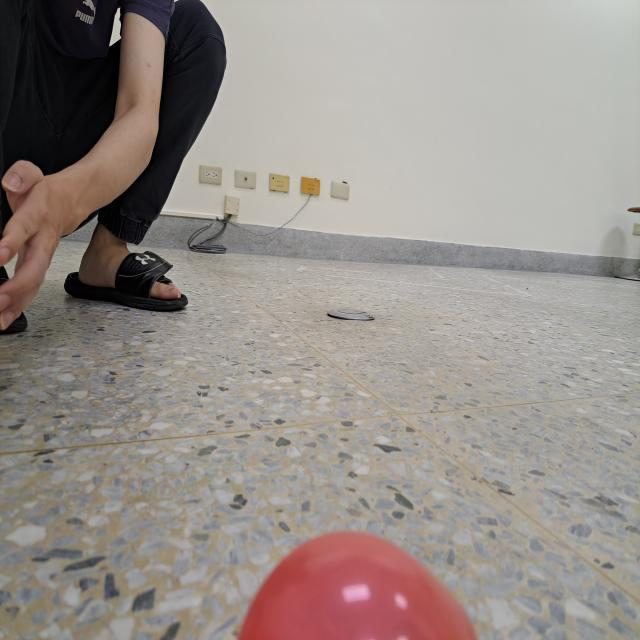red: (236, 528, 478, 640)
